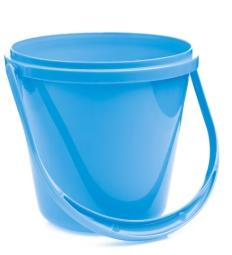SEAU: (0, 0, 223, 255)
